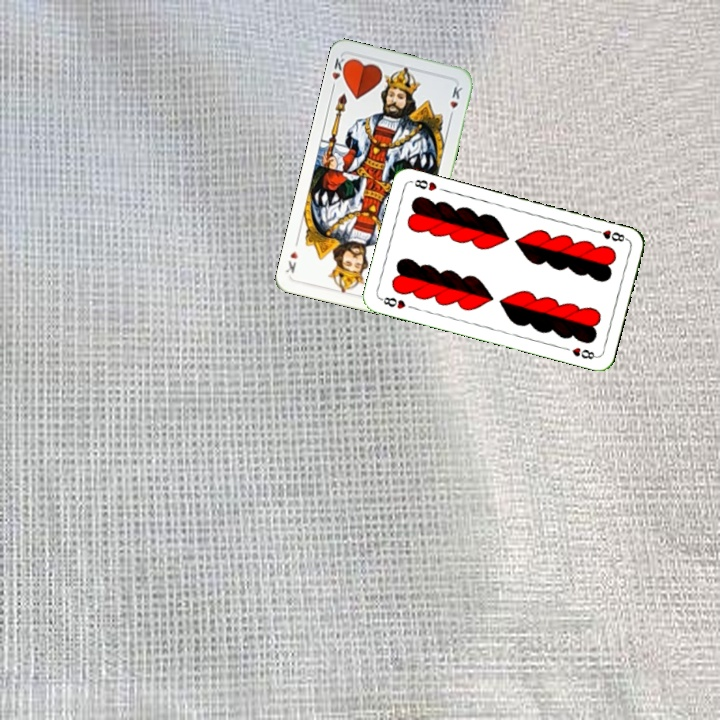H8: (590, 226, 630, 244), (376, 293, 408, 312)
HK: (327, 53, 351, 93)
